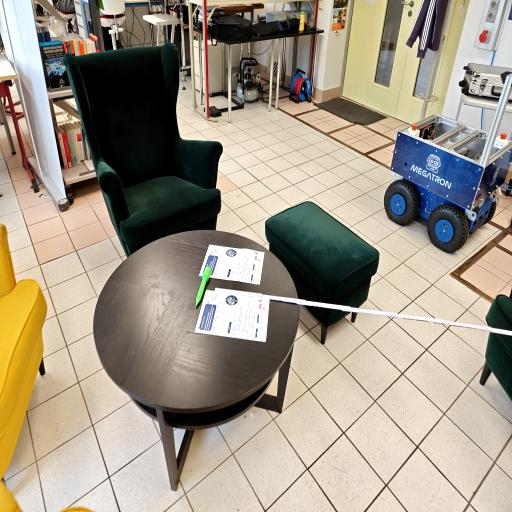Probe-Detection: (196, 266, 211, 306)
